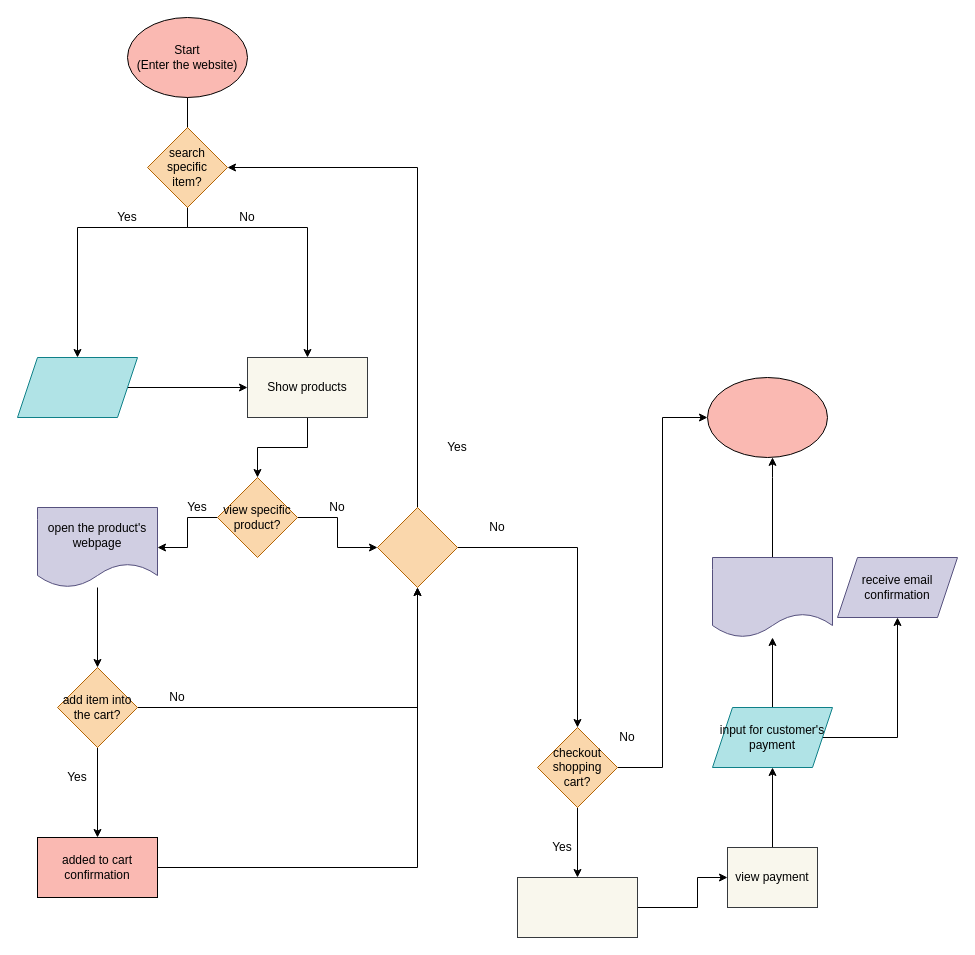
This 975x955 diagram has some shape labels left out. The box of each missing label's shape, as (x1, y1, x2, y2) in pixels:
continue shopping?: (376, 506, 458, 588)
customer leaves: (706, 376, 828, 458)
printout order confirmation: (712, 556, 832, 638)
Search for a Product: (16, 356, 138, 418)
view cart screen: (516, 876, 638, 938)
